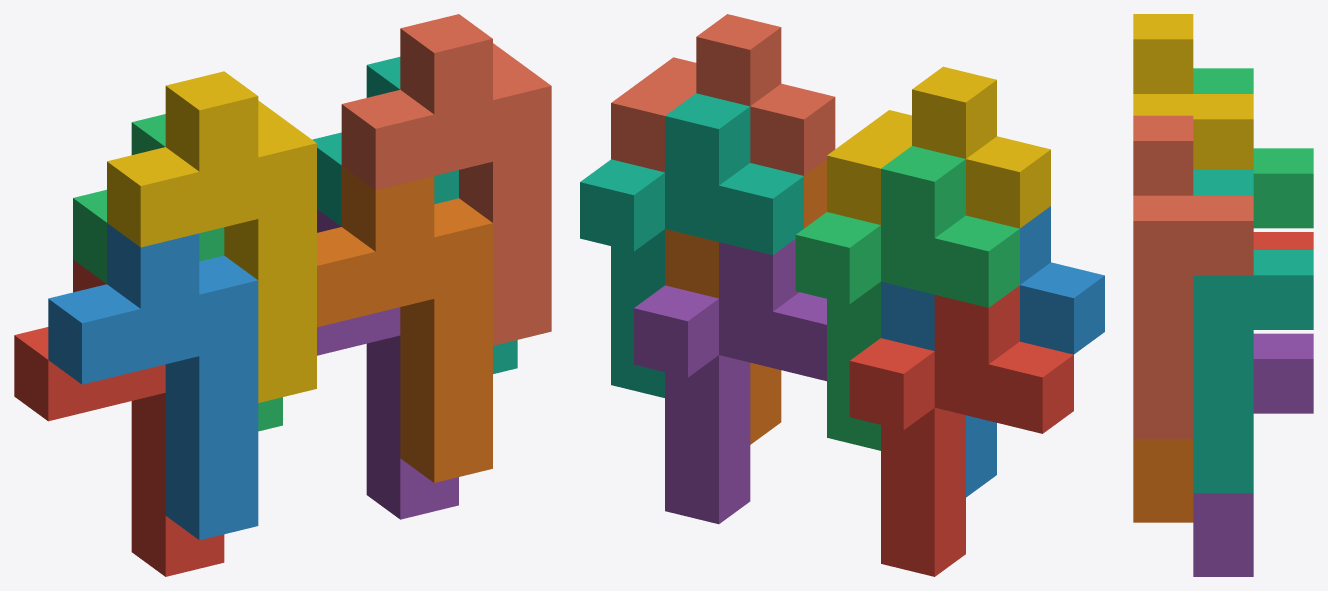
Rendered from tiling.obj.
3 renders of one model, left to right at view 1: azimuth 30°, elevation 25°; view 2: azimuth 150°, elevation 25°; view 3: azimuth 270°, elevation 25°, orthographic. The views are drawn at different scales.
Parts seen in each view (by area): view 1: copy_1_domain_2, copy_1_domain_8, copy_1_domain_4, copy_1_domain_6, copy_1_domain_1, copy_1_domain_5, copy_1_domain_3, copy_1_domain_7; view 2: copy_1_domain_1, copy_1_domain_5, copy_1_domain_3, copy_1_domain_7, copy_1_domain_8, copy_1_domain_4, copy_1_domain_2, copy_1_domain_6; view 3: copy_1_domain_8, copy_1_domain_7, copy_1_domain_4, copy_1_domain_5, copy_1_domain_3, copy_1_domain_6, copy_1_domain_1.
Part boxes in pixels (<box>): copy_1_domain_2: <box>48,223,258,540</box>; copy_1_domain_8: <box>341,14,551,345</box>; copy_1_domain_4: <box>107,71,316,402</box>; copy_1_domain_6: <box>317,166,492,482</box>; copy_1_domain_1: <box>14,259,224,576</box>; copy_1_domain_5: <box>317,209,458,519</box>; copy_1_domain_3: <box>73,114,282,431</box>; copy_1_domain_7: <box>312,57,517,373</box>; copy_1_domain_1: <box>849,285,1073,576</box>; copy_1_domain_5: <box>634,239,826,524</box>; copy_1_domain_3: <box>795,146,1019,450</box>; copy_1_domain_7: <box>580,93,803,397</box>; copy_1_domain_8: <box>611,14,835,175</box>; copy_1_domain_4: <box>827,66,1050,228</box>; copy_1_domain_2: <box>881,206,1104,497</box>; copy_1_domain_6: <box>665,159,826,444</box>; copy_1_domain_8: <box>1133,115,1253,438</box>; copy_1_domain_7: <box>1193,170,1313,493</box>; copy_1_domain_4: <box>1133,14,1253,169</box>; copy_1_domain_5: <box>1193,333,1313,576</box>; copy_1_domain_3: <box>1193,68,1313,228</box>; copy_1_domain_6: <box>1133,439,1193,522</box>; copy_1_domain_1: <box>1253,232,1313,249</box>.
Size of the model in its own units: 8 by 8 by 3.
